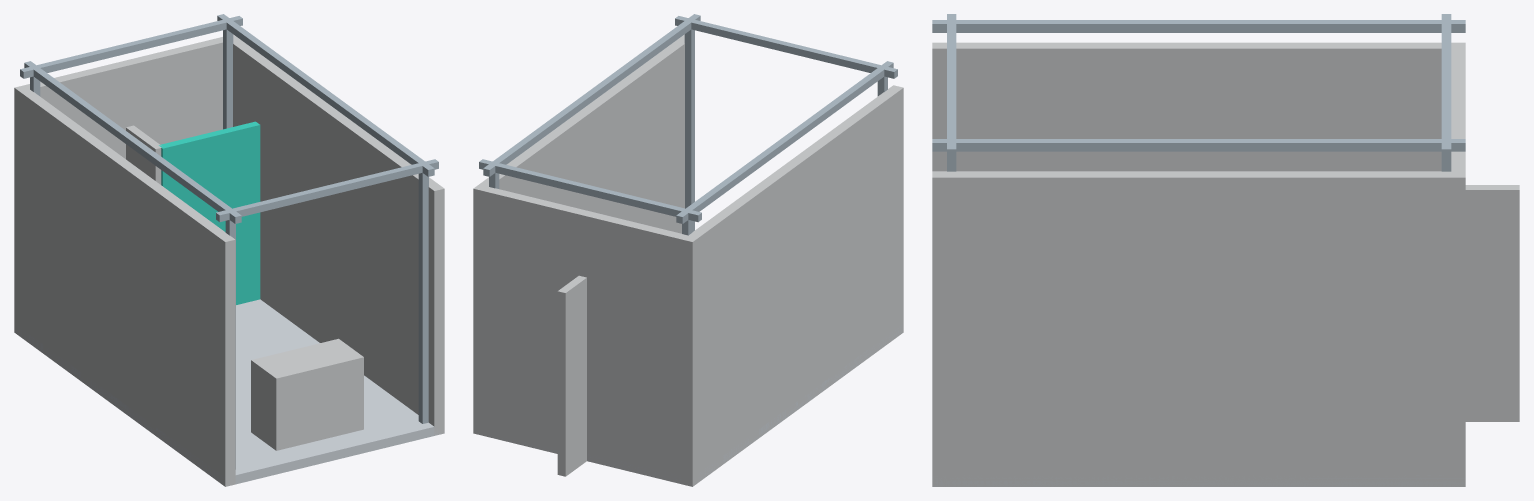
3 views of the same model, side by side, from view 1: azimuth 30°, elevation 25°; view 2: azimuth 150°, elevation 25°; view 3: azimuth 270°, elevation 25° (orthographic). The views are drawn at different scales.
Visible parts, largest first — view 1: Exhibition Booth Concept; view 2: Exhibition Booth Concept; view 3: Exhibition Booth Concept.
Boxes of the visible parts, bbox=[...] form: Exhibition Booth Concept: bbox=[14, 14, 444, 486]; Exhibition Booth Concept: bbox=[473, 14, 903, 486]; Exhibition Booth Concept: bbox=[932, 14, 1519, 486].
Bounding box in the file's own units: 3 × 3.49 × 5.51.
